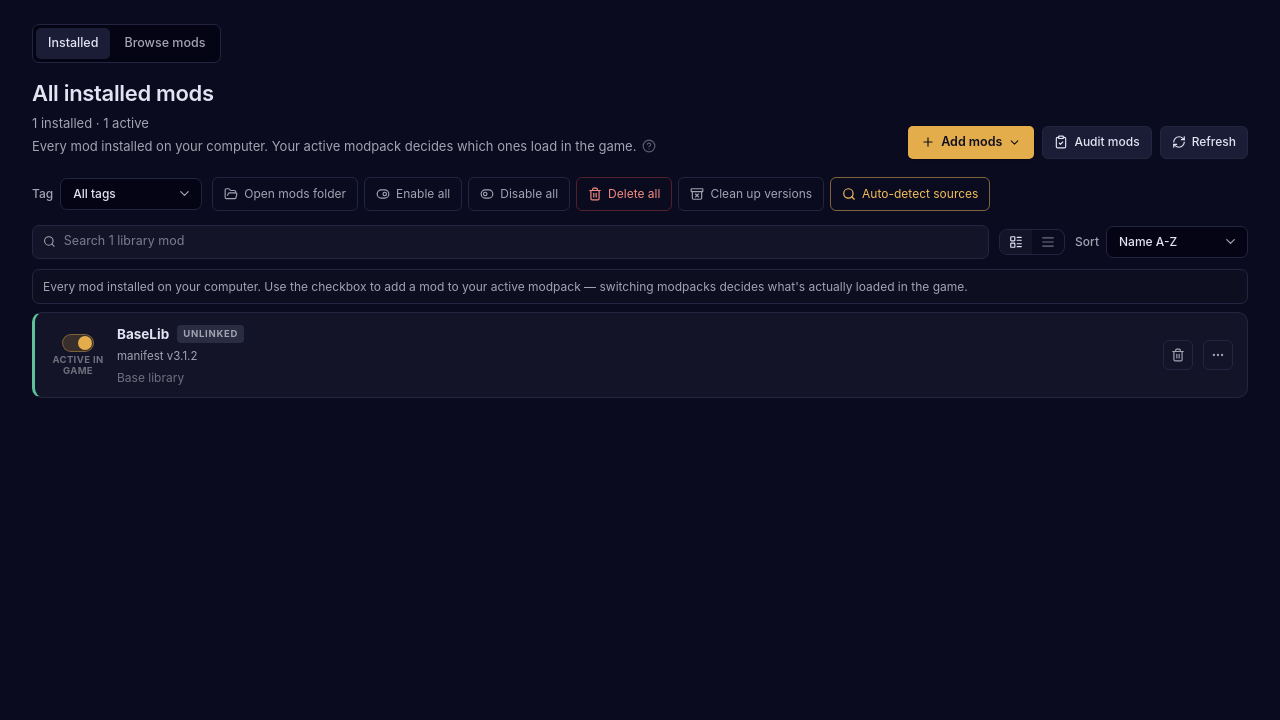
Test: <ModsView> › opens the global stored-version cleanup from the library bulk toolbar
Expected: the heading "BaseLib" is shown, [117,324,169,344]
Click the button "Clean up versions" at (751, 194), box [678,177,824,211]
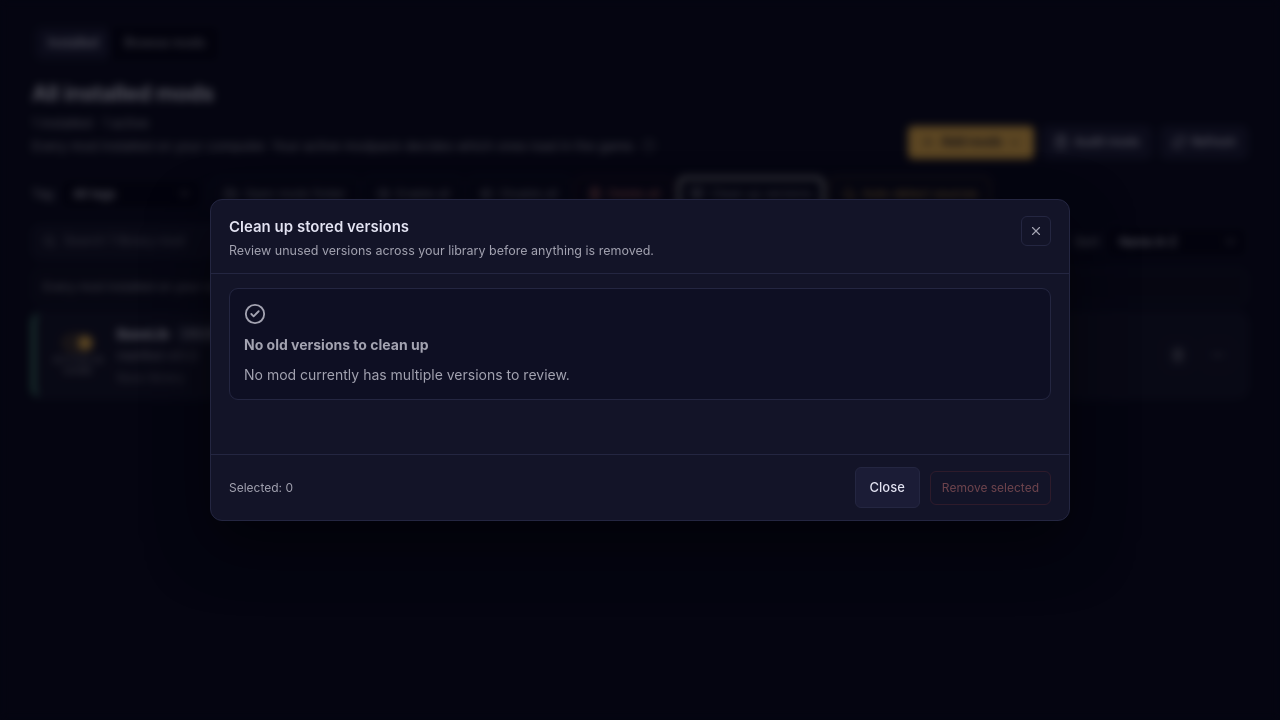
Now the dialog "Clean up stored versions" is shown, box [210,199,1070,521]
Now the text "No old versions to clean up" is shown, box [244,334,428,355]
Click the button named "Close" at (1036, 231), box [1021,216,1051,246]
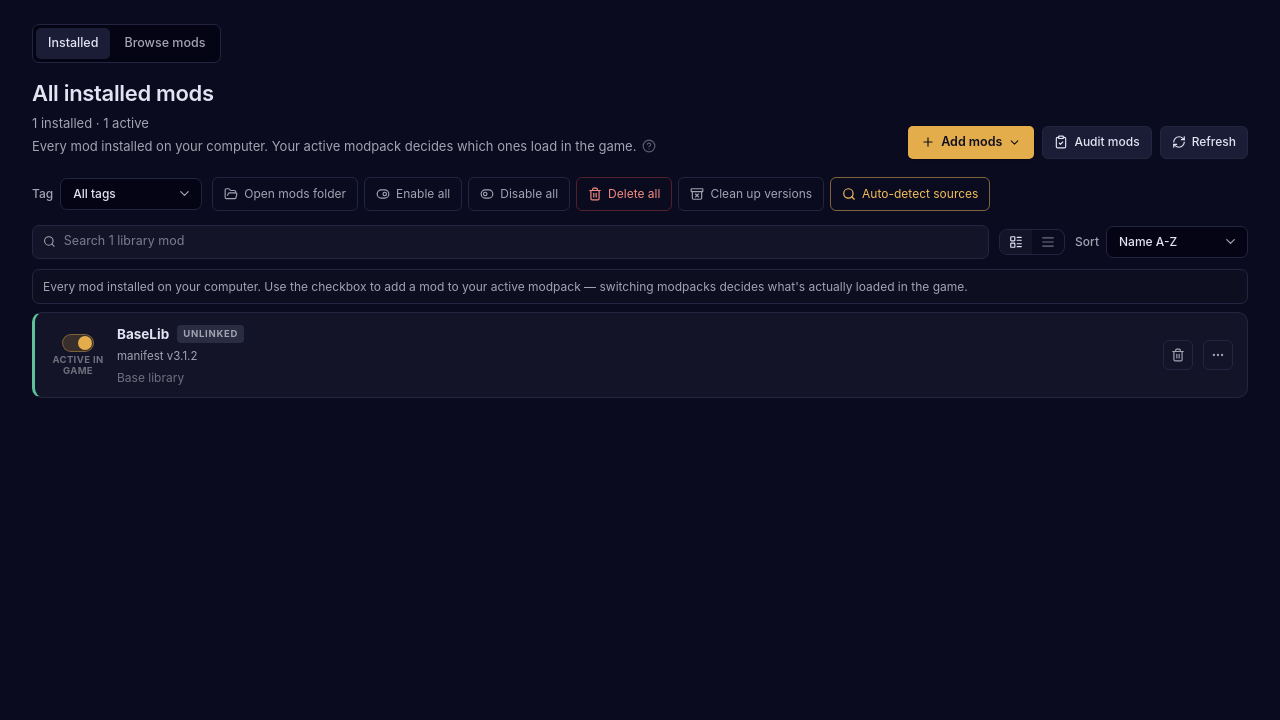
Now the text "Clean up stored versions" is gone
